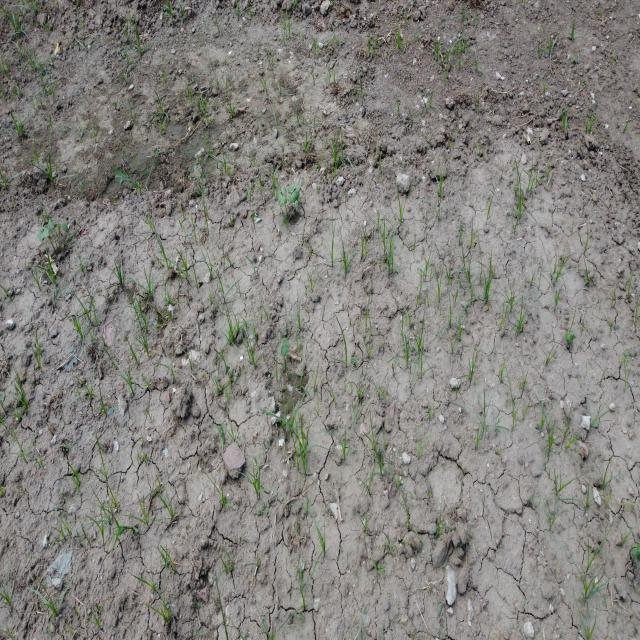seedling: (39, 228, 50, 242), (281, 338, 289, 357), (289, 190, 299, 203), (630, 543, 638, 559), (48, 217, 57, 230), (288, 184, 301, 193), (277, 191, 284, 207), (280, 188, 287, 204), (60, 222, 68, 232), (565, 328, 570, 343), (570, 332, 574, 343)
